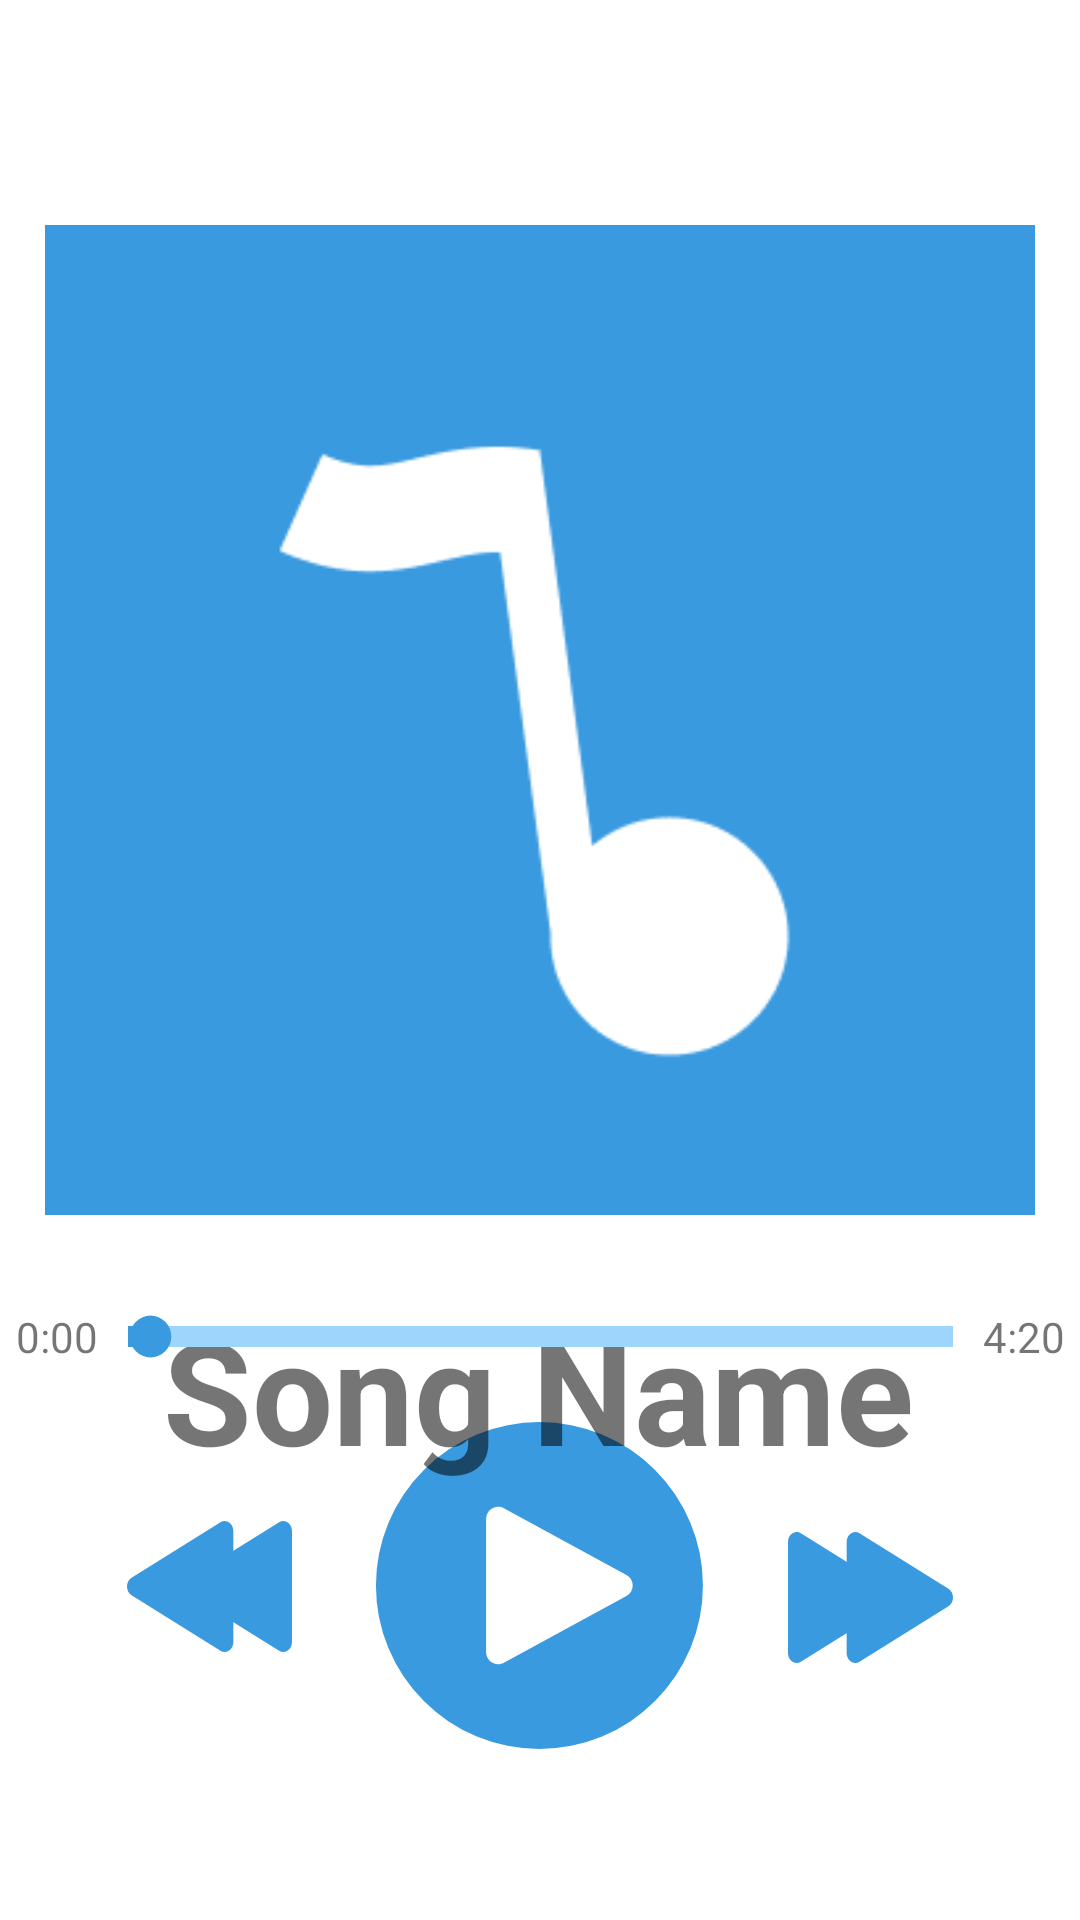

Screen size 1080x1920. Icon name, then its center in pixels as [x,y]:
next song: [870,1597]
progress circle: [150,1336]
restart song: [209,1586]
